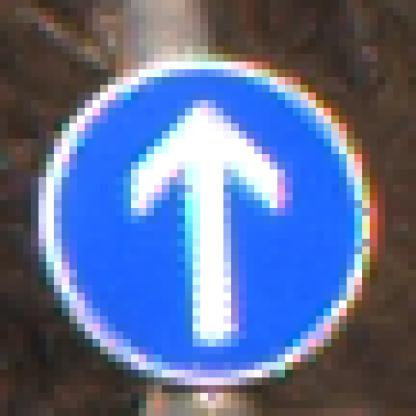AheadOnly: (40, 47, 379, 379)
